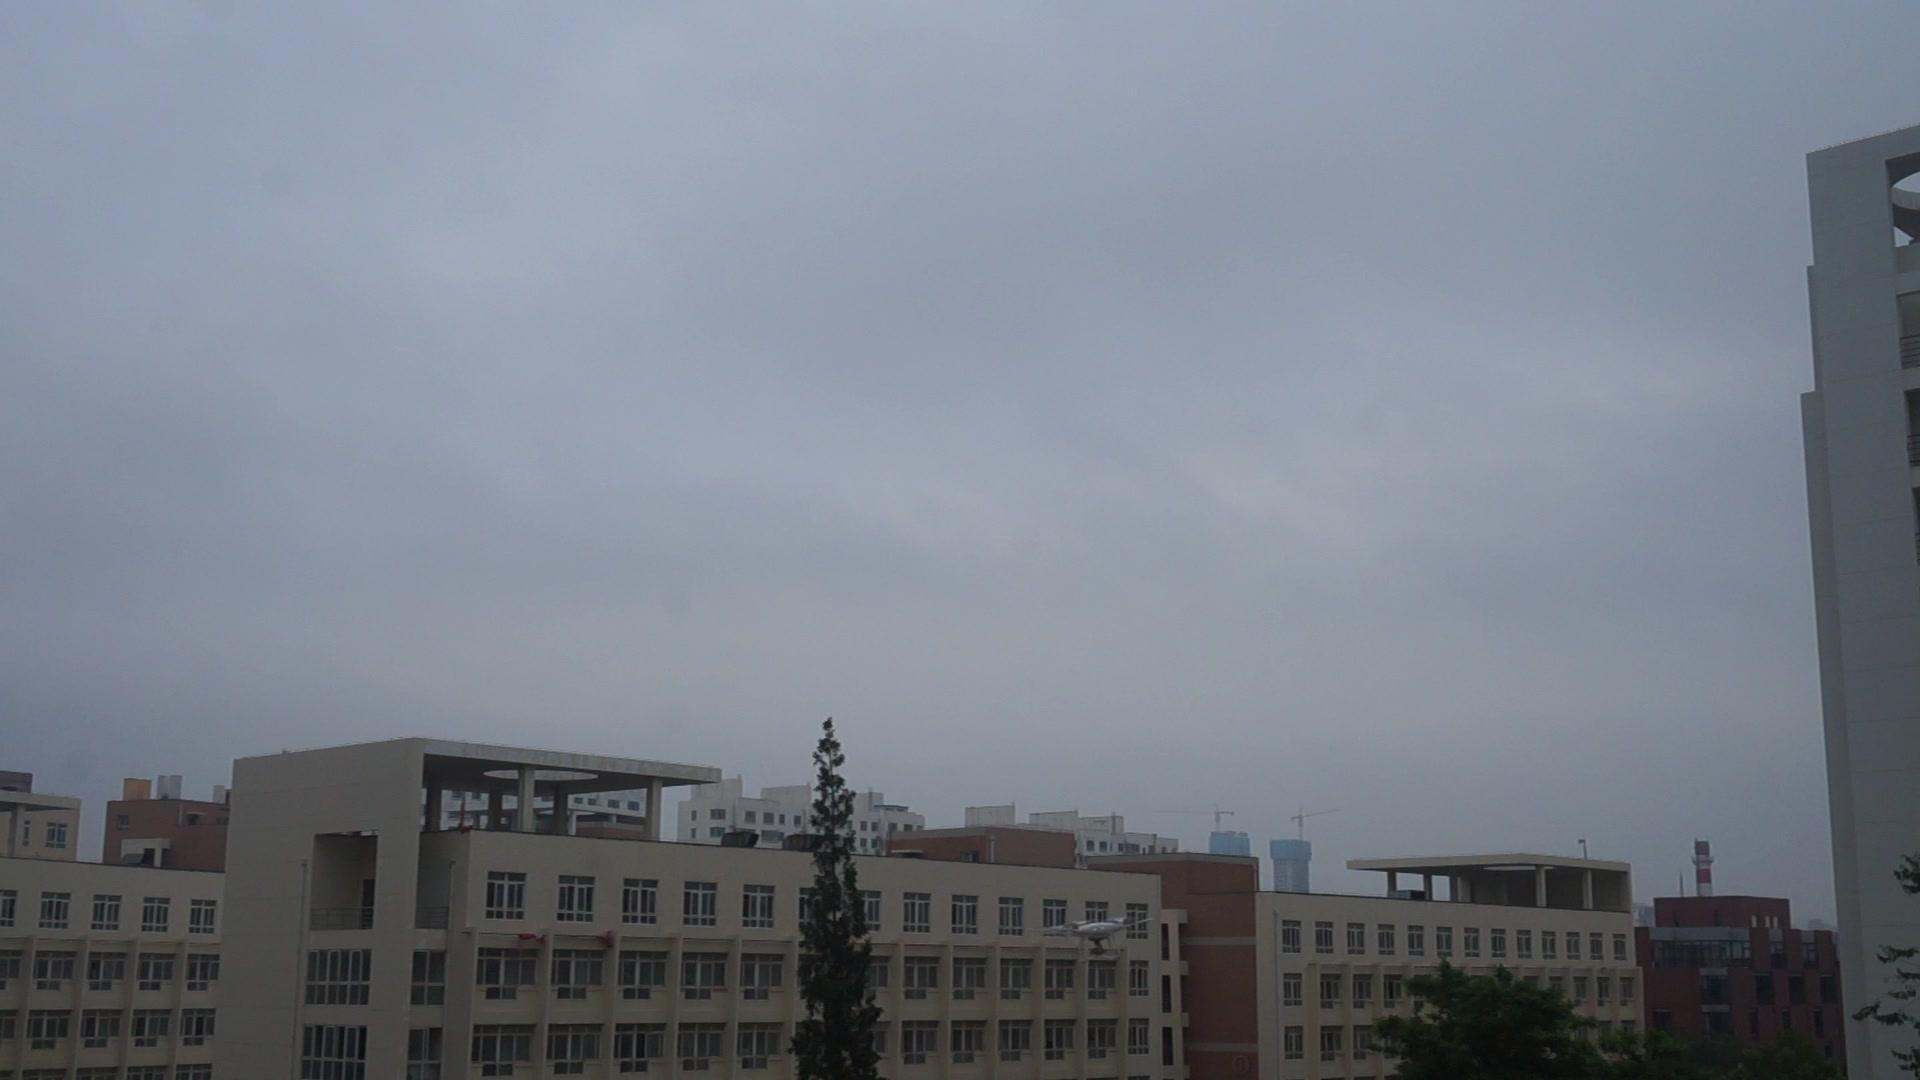UAV: (1044, 916, 1133, 963)
